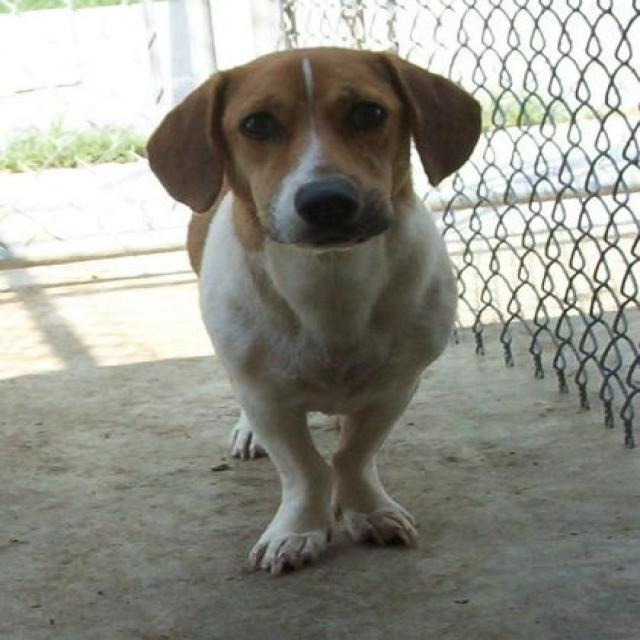Dogs: (143, 44, 483, 576)
